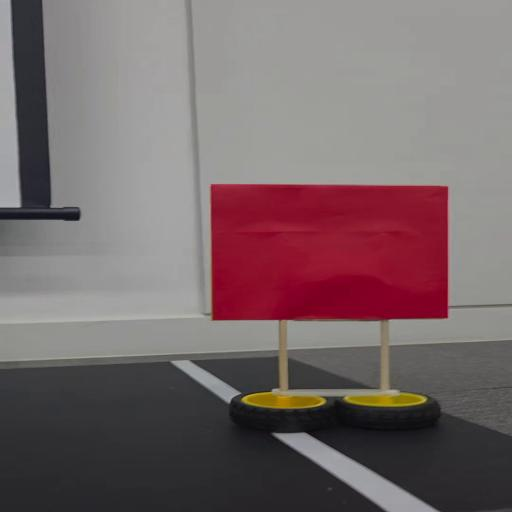Sign_A: (206, 180, 474, 430)
